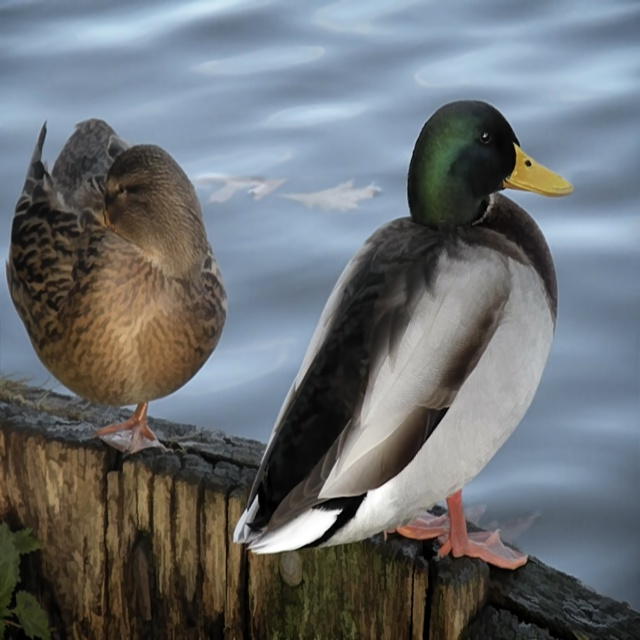Duck: (220, 66, 564, 573), (6, 114, 227, 463)
